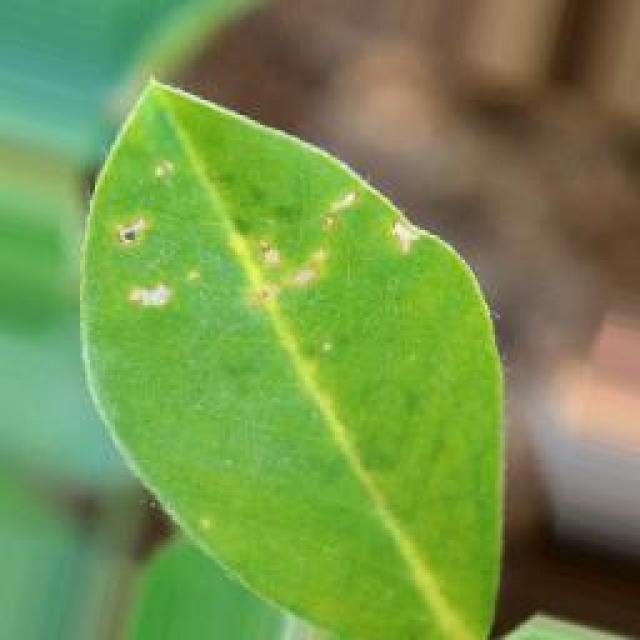Yellow_and_black_sigatoka: (82, 74, 535, 640)
